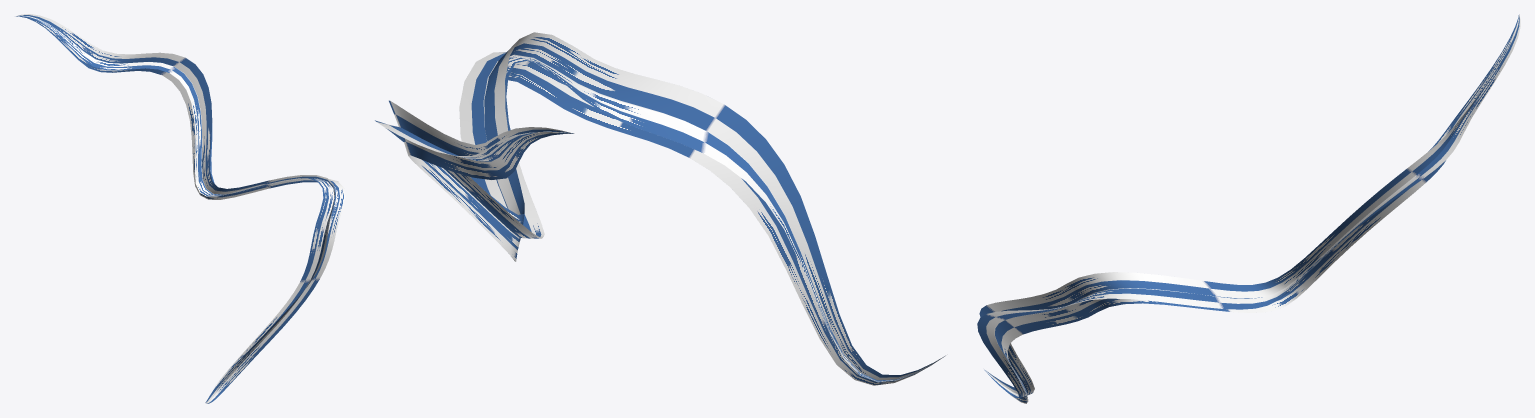
The model's file is Rui_DomeEnd4_1.fbx.
3 views of the same model, side by side, from view 1: azimuth 30°, elevation 25°; view 2: azimuth 150°, elevation 25°; view 3: azimuth 270°, elevation 25° (orthographic). The views are drawn at different scales.
Parts seen in each view (by area): view 1: SM_e_Plc_P1007_DomeEnd004; view 2: SM_e_Plc_P1007_DomeEnd004; view 3: SM_e_Plc_P1007_DomeEnd004.
Boxes of the visible parts, x1,y1,x2,y2 form: SM_e_Plc_P1007_DomeEnd004: (15, 14, 345, 403); SM_e_Plc_P1007_DomeEnd004: (375, 32, 945, 385); SM_e_Plc_P1007_DomeEnd004: (977, 14, 1520, 403).
Bounding box in the file's own units: 47.52 × 63.53 × 84.47.
